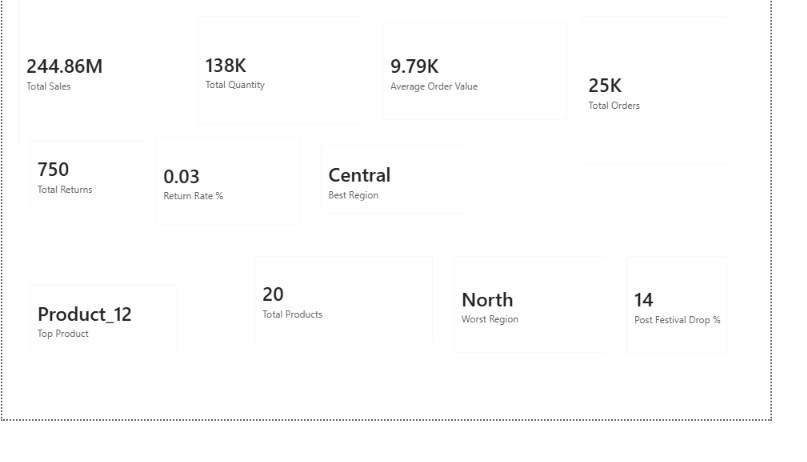

Layout of this report page (visuals, bound fields, positions):
{"tool":"powerbi","page":{"name":"KPI CARDS","canvas":[1280,720],"ordinal":0},"visuals":[{"type":"cardVisual","fields":{"Data":["Sales.Total Sales"]},"box":[10,0,280,280],"z":0},{"type":"cardVisual","fields":{"Data":["Sales.Total Orders"]},"box":[946.4,32.3,279.1,280.9],"z":1000},{"type":"cardVisual","fields":{"Data":["Sales.Total Quantity"]},"box":[308.1,32.3,308.1,214.5],"z":2000},{"type":"cardVisual","fields":{"Data":["Sales.Average Order Value"]},"box":[616.2,40.9,342.1,197.4],"z":3000},{"type":"cardVisual","fields":{"Data":["Sales.Total Returns"]},"box":[28.9,238.3,279.1,149.8],"z":4000},{"type":"cardVisual","fields":{"Data":["Sales.Return Rate %"]},"box":[238.3,233.2,275.7,180.4],"z":5000},{"type":"cardVisual","fields":{"Data":["Sales.Best Region","Sales.Best Region"]},"box":[514,246.8,279.1,149.8],"z":6000},{"type":"cardVisual","fields":{"Data":["Sales.Top Product"]},"box":[29,478,279,150],"z":7000},{"type":"cardVisual","fields":{"Data":["Sales.Total Products"]},"box":[403.4,432.3,331.9,178.7],"z":8000},{"type":"cardVisual","fields":{"Data":["Sales.Worst Region"]},"box":[735.3,432.3,287.7,195.7],"z":9000}]}

Visuals, with their boxes in screenshot pixels (x1, y1, x2, y2), scaled from the page's 1280x720 canvas onto the 807x462 screenshot:
cardVisual - Sales.Total Sales: (left=6, top=0, right=183, bottom=180)
cardVisual - Sales.Total Orders: (left=597, top=21, right=773, bottom=201)
cardVisual - Sales.Total Quantity: (left=194, top=21, right=388, bottom=158)
cardVisual - Sales.Average Order Value: (left=388, top=26, right=604, bottom=153)
cardVisual - Sales.Total Returns: (left=18, top=153, right=194, bottom=249)
cardVisual - Sales.Return Rate %: (left=150, top=150, right=324, bottom=265)
cardVisual - Sales.Best Region x Sales.Best Region: (left=324, top=158, right=500, bottom=254)
cardVisual - Sales.Top Product: (left=18, top=307, right=194, bottom=403)
cardVisual - Sales.Total Products: (left=254, top=277, right=464, bottom=392)
cardVisual - Sales.Worst Region: (left=464, top=277, right=645, bottom=403)
